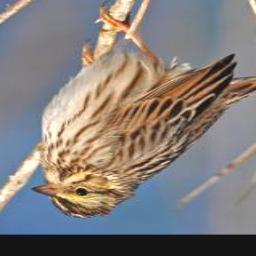Sparrow: (31, 0, 256, 219)
